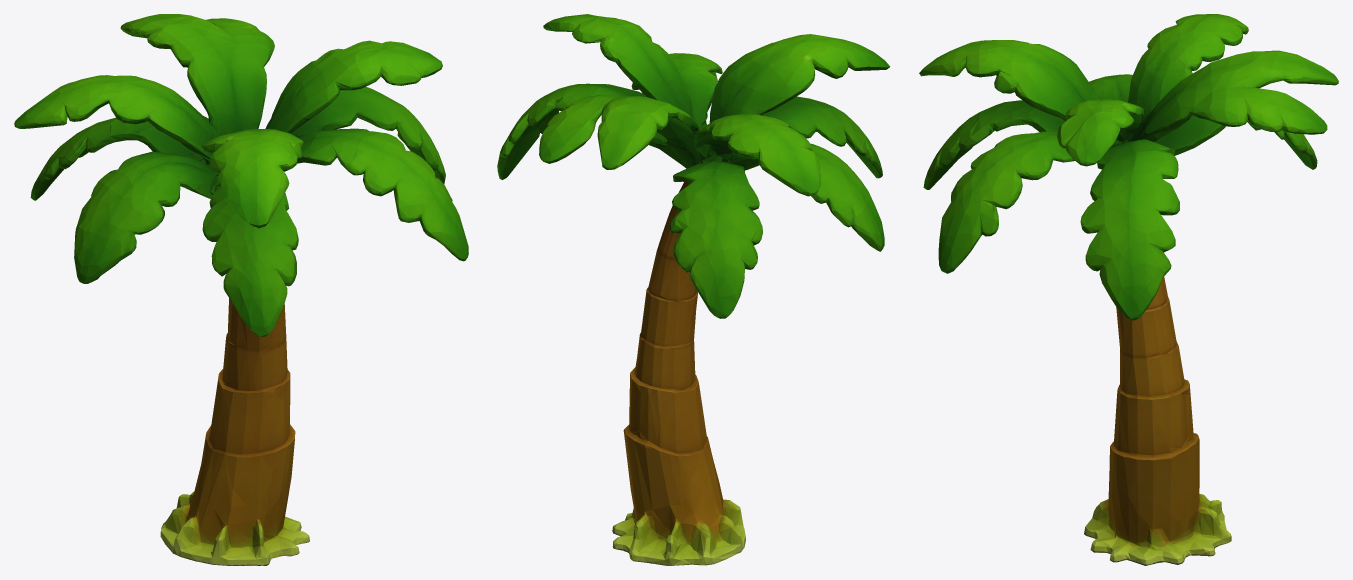
Rendered from palm_tree_.glb.
3 views of the same model, side by side, from view 1: azimuth 30°, elevation 25°; view 2: azimuth 150°, elevation 25°; view 3: azimuth 270°, elevation 25° (orthographic). The views are drawn at different scales.
Visible parts, largest first — view 1: geometry_0; view 2: geometry_0; view 3: geometry_0.
Boxes of the visible parts, <box> form: geometry_0: <box>14,14,468,565</box>; geometry_0: <box>497,14,890,565</box>; geometry_0: <box>919,14,1338,565</box>.
Bounding box in the file's own units: 0.8154 × 0.999 × 0.7913.
1 material, 1 textured.
